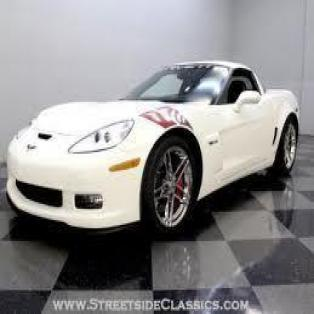Auto: (4, 53, 302, 238)
